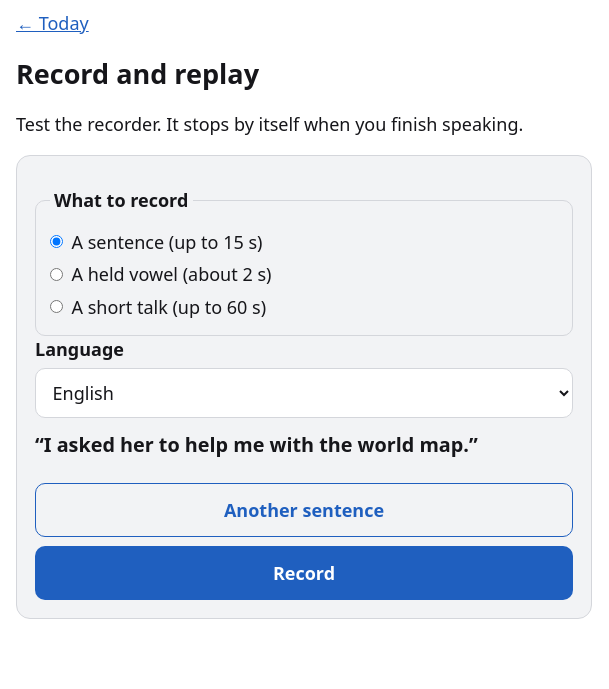
Test: record screen › Recorder_MicError_ShowsMessage
Click the button "Record": (304, 573) [35,546,573,600]
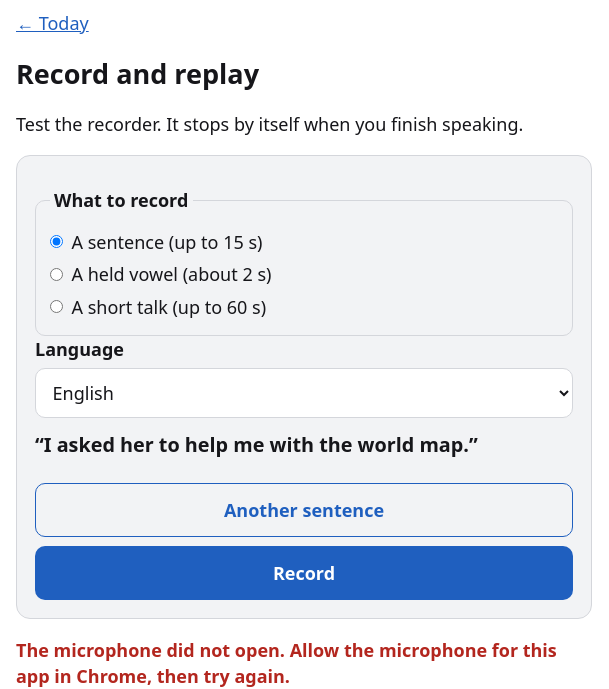
Expected: the message shows "microphone did not open", [16,638,557,688]
